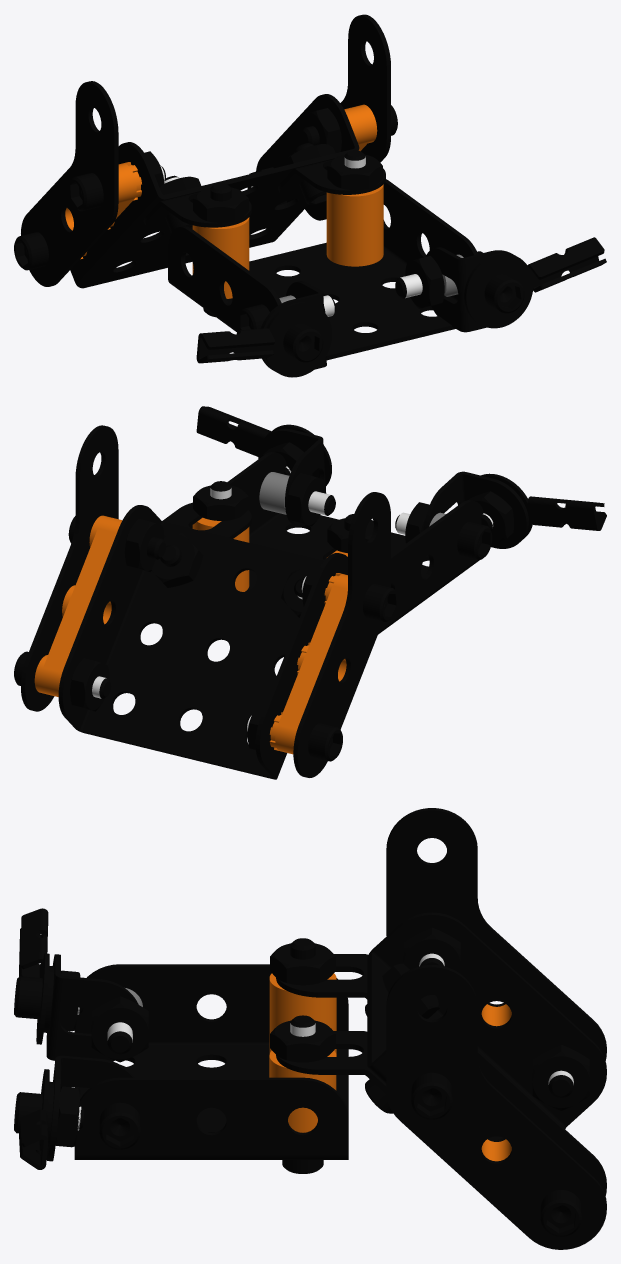
3 views of the same model, one above another, from view 1: azimuth 30°, elevation 25°; view 2: azimuth 150°, elevation 25°; view 3: azimuth 270°, elevation 25° (orthographic). The views are drawn at different scales.
Visible parts, largest first — view 1: matte zinc, polished nickel, white-pw-mt11050-2, white-pw-mt11050, (No material); view 2: polished nickel, matte zinc, white-pw-mt11050, white-pw-mt11050-3, (No material), white-pw-mt11050-2; view 3: matte zinc, polished nickel, white-pw-mt11050-2, white-pw-mt11050, (No material).
Boxes of the visible parts, left/top/right/bottom form: matte zinc: left=14, top=14, right=606, bottom=377; polished nickel: left=70, top=94, right=477, bottom=360; white-pw-mt11050-2: left=192, top=184, right=383, bottom=298; white-pw-mt11050: left=65, top=104, right=377, bottom=259; (No material): left=160, top=156, right=422, bottom=316; polished nickel: left=58, top=452, right=483, bottom=779; matte zinc: left=14, top=406, right=606, bottom=777; white-pw-mt11050: left=34, top=515, right=347, bottom=754; white-pw-mt11050-3: left=259, top=472, right=445, bottom=526; (No material): left=92, top=466, right=493, bottom=731; white-pw-mt11050-2: left=192, top=517, right=347, bottom=591; matte zinc: left=14, top=808, right=606, bottom=1249; polished nickel: left=74, top=912, right=606, bottom=1195; white-pw-mt11050-2: left=269, top=973, right=336, bottom=1132; white-pw-mt11050: left=481, top=1004, right=511, bottom=1161; (No material): left=77, top=953, right=573, bottom=1130.
Size of the model in its own units: 7.61 by 4.6 by 8.24.
